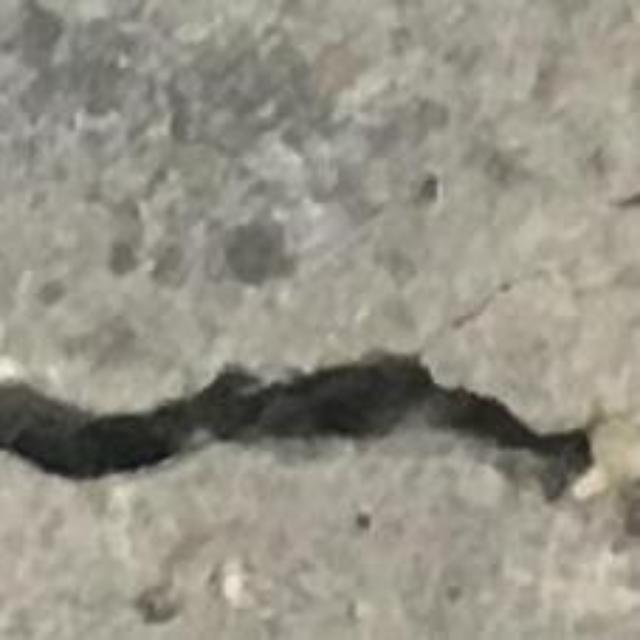crack: (0, 353, 639, 555)
